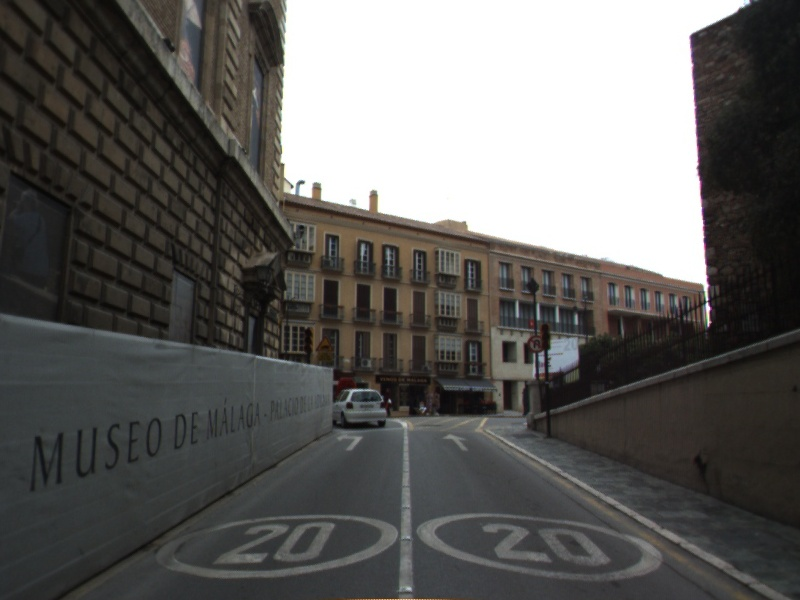LEFT: (335, 432, 365, 452)
STRAIGHT: (441, 431, 470, 453)
